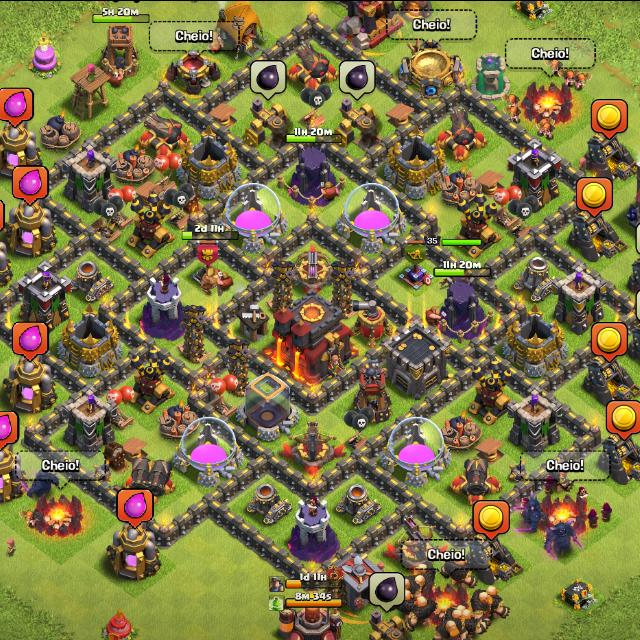ElixirNegro: (338, 58, 377, 101), (368, 570, 405, 613), (250, 59, 286, 101)
FullCoin: (575, 178, 614, 218), (591, 98, 629, 139), (591, 323, 629, 363), (473, 500, 510, 540), (607, 398, 640, 441)
FullElixir: (12, 165, 49, 207), (12, 321, 49, 363), (117, 488, 154, 530), (1, 88, 34, 128), (0, 412, 21, 454)
